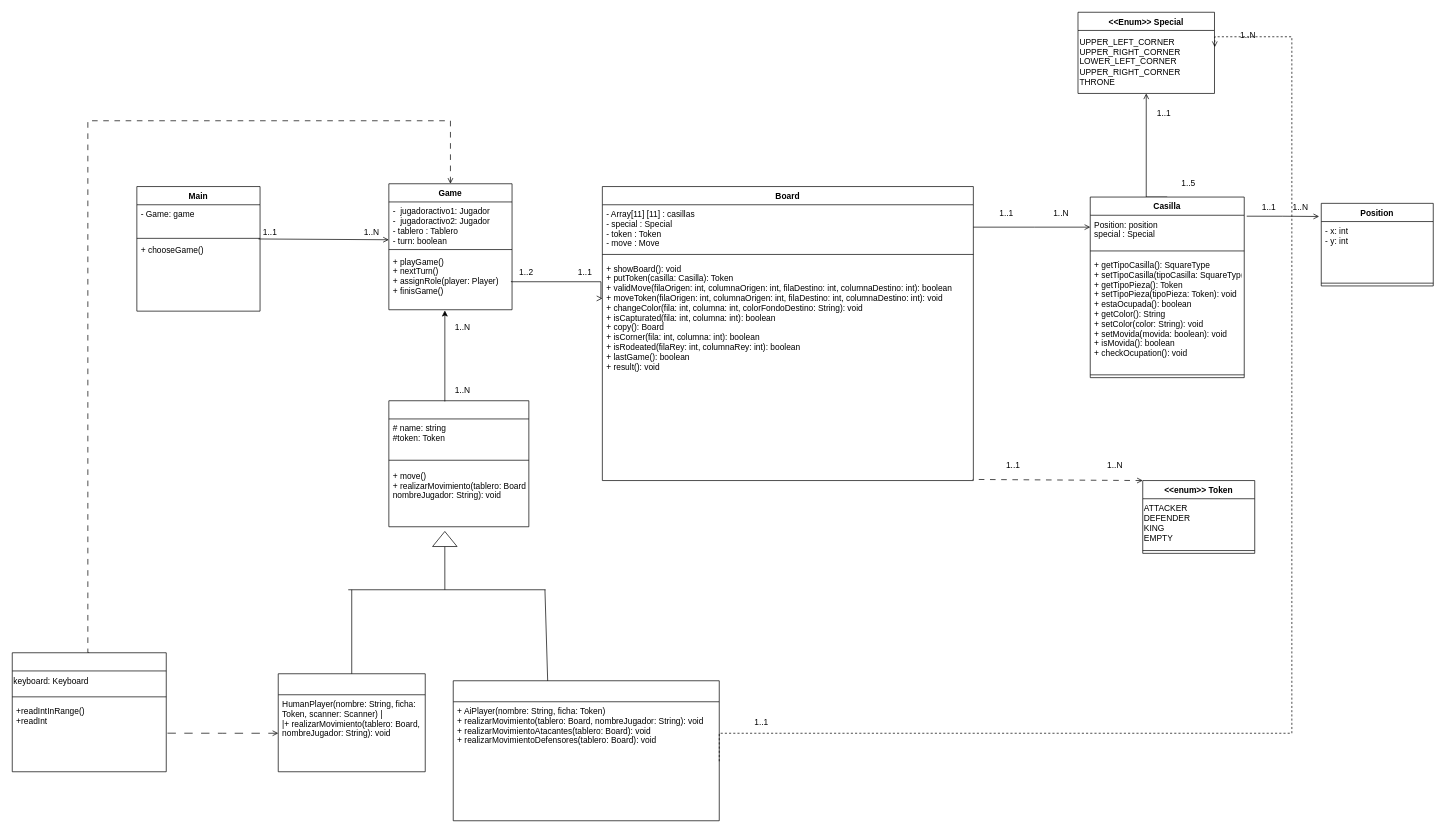
Image size: 1446x835. Some labels were removed from this diagram. Each missing label, with the box of its shape:
ConsoleInput: (12, 652, 166, 772)
Folk: (278, 673, 425, 772)
IA: (453, 680, 719, 821)
Player: (388, 400, 529, 527)
